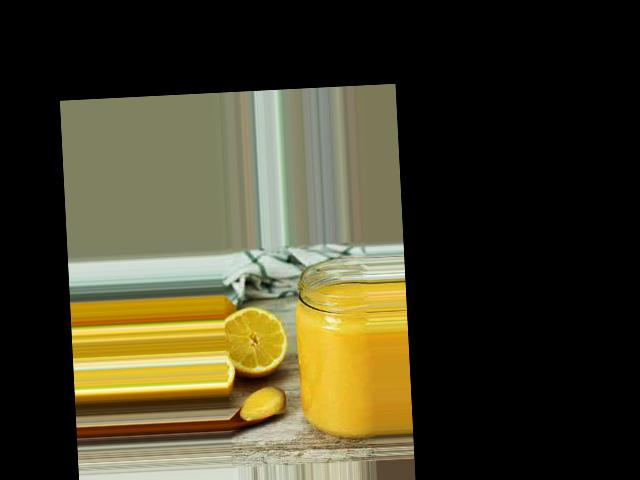lemon: (224, 300, 295, 374)
